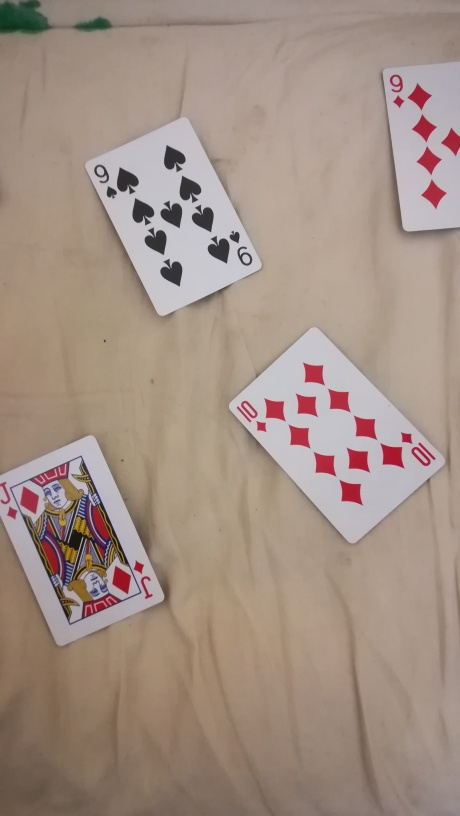fk 10: (228, 323, 450, 560)
fk 9: (371, 57, 460, 281)
fk j: (5, 429, 170, 661)
ht 9: (77, 118, 268, 321)
